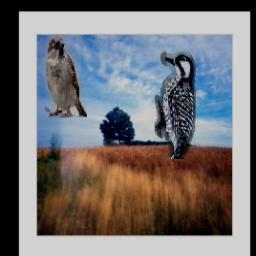Sparrow: (45, 35, 87, 119)
Woodpecker: (156, 50, 197, 159)
